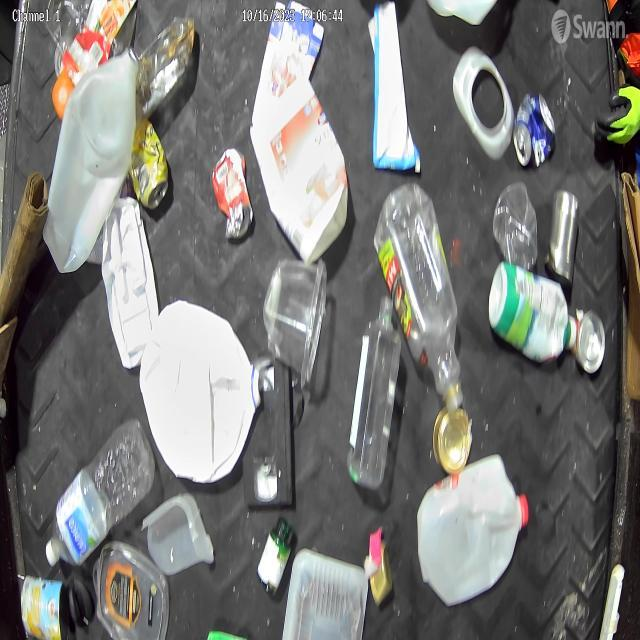can: (214, 150, 254, 238), (134, 125, 170, 213), (514, 85, 554, 162), (550, 185, 578, 286), (433, 410, 472, 470)
milk_jug: (138, 299, 267, 469), (415, 446, 535, 612), (50, 50, 146, 257)
non_white_jug: (260, 79, 348, 260)
plastic_bottle: (380, 189, 468, 411), (47, 424, 152, 558), (352, 294, 396, 474)
